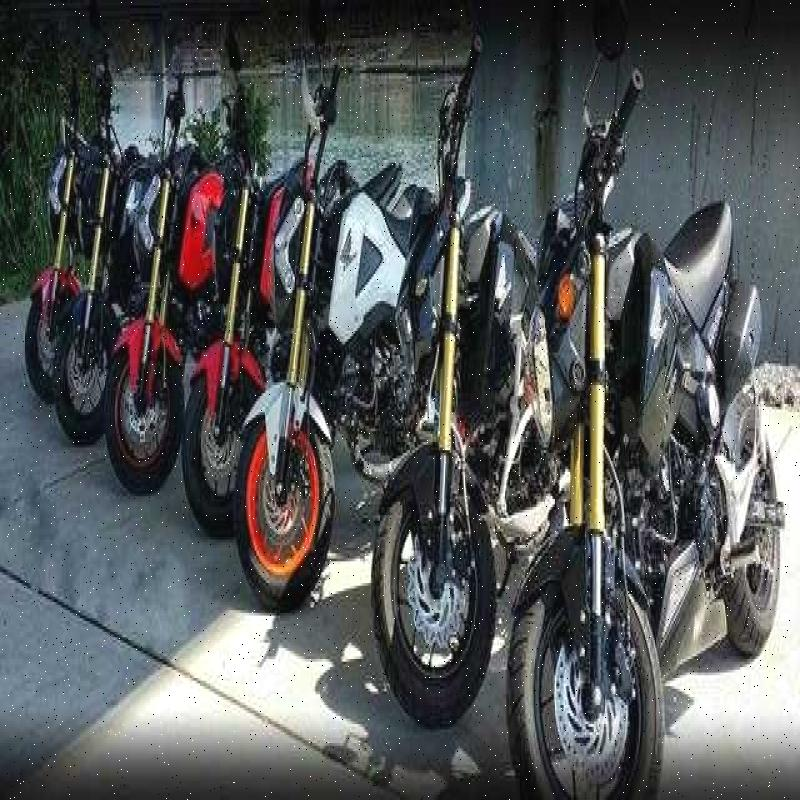bike: (525, 78, 770, 800), (384, 78, 565, 726), (253, 64, 396, 634), (191, 102, 294, 552), (118, 95, 230, 506), (69, 128, 145, 478), (22, 99, 92, 404)
